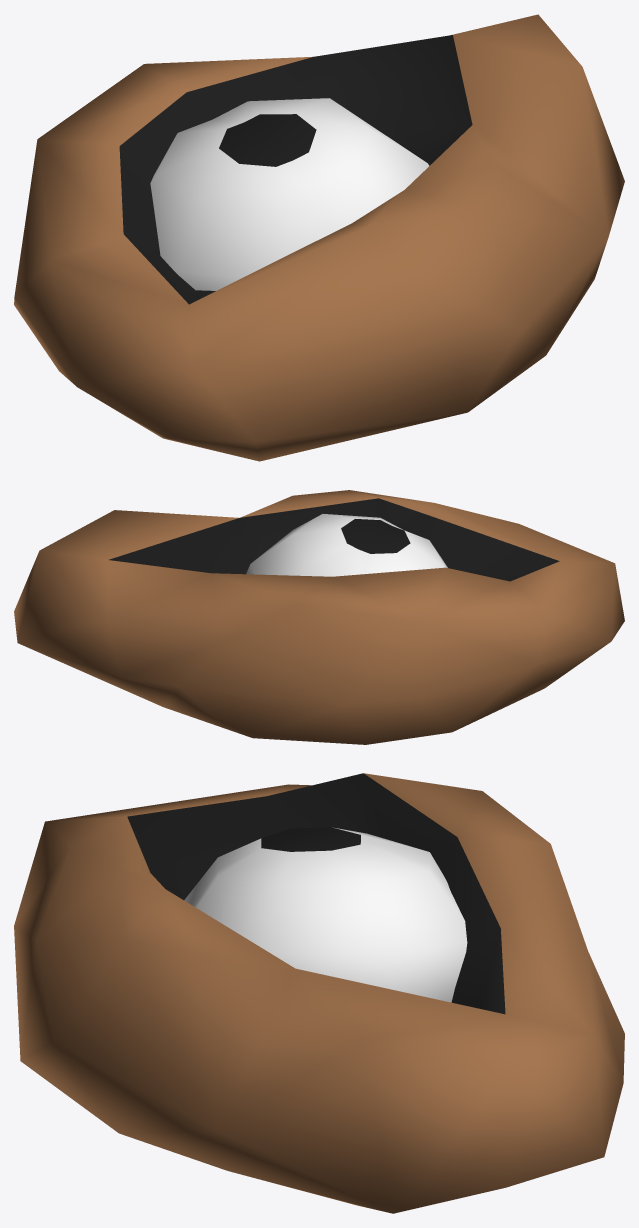
The model's file is Seavonian Eye.fbx.
3 views of the same model, one above another, from view 1: azimuth 30°, elevation 25°; view 2: azimuth 150°, elevation 25°; view 3: azimuth 270°, elevation 25° (orthographic). The views are drawn at different scales.
Visible parts, largest first — view 1: Seavonian Eye - MAVG; view 2: Seavonian Eye - MAVG; view 3: Seavonian Eye - MAVG.
Part boxes in pixels (x1,y1,x2,y2): Seavonian Eye - MAVG: (14,14,624,461); Seavonian Eye - MAVG: (14,490,624,744); Seavonian Eye - MAVG: (14,773,624,1213).
Bounding box in the file's own units: 29.97 × 10.77 × 22.91.
